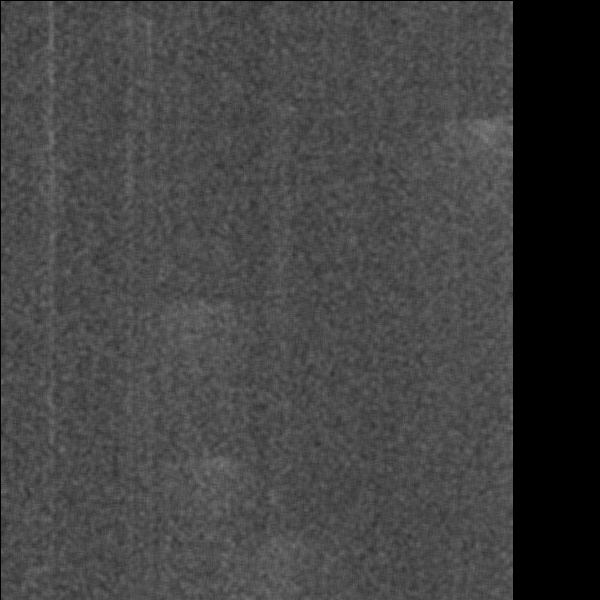spark: (469, 111, 508, 195), (152, 454, 268, 480)
